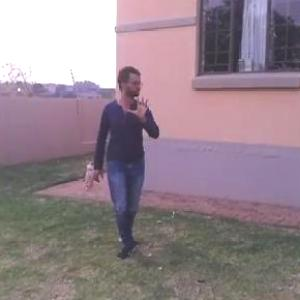follow_hand: (128, 93, 153, 121)
